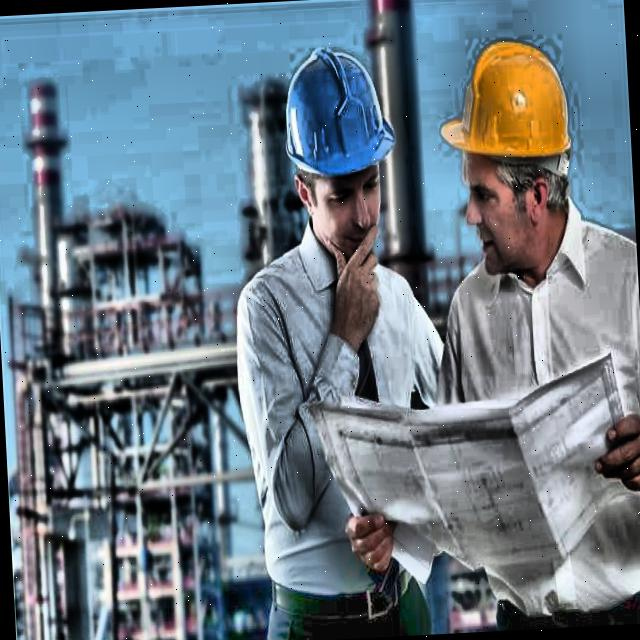helmet: (444, 13, 594, 300), (255, 27, 413, 297)
